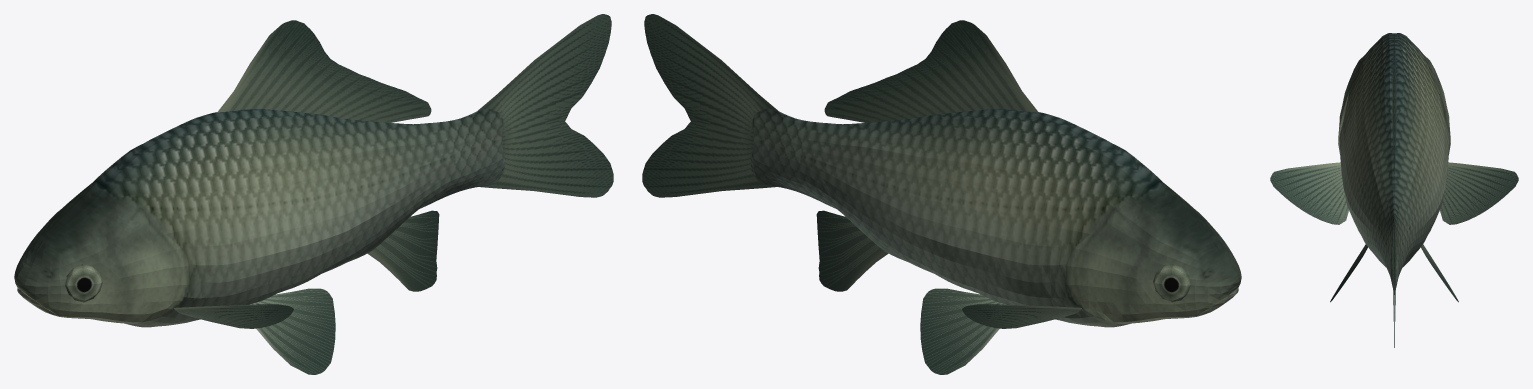
The model's file is White_Crucian.fbx.
3 renders of one model, left to right at view 1: azimuth 30°, elevation 25°; view 2: azimuth 150°, elevation 25°; view 3: azimuth 270°, elevation 25°, orthographic. The views are drawn at different scales.
Visible parts, largest first — view 1: White_Carp; view 2: White_Carp; view 3: White_Carp.
Part boxes in pixels (<box>): White_Carp: <box>14,14,613,374</box>; White_Carp: <box>642,14,1241,374</box>; White_Carp: <box>1270,33,1518,347</box>.
Bounding box in the file's own units: 40 × 20.84 × 16.21.
Materials: 1 (1 with a texture image).
